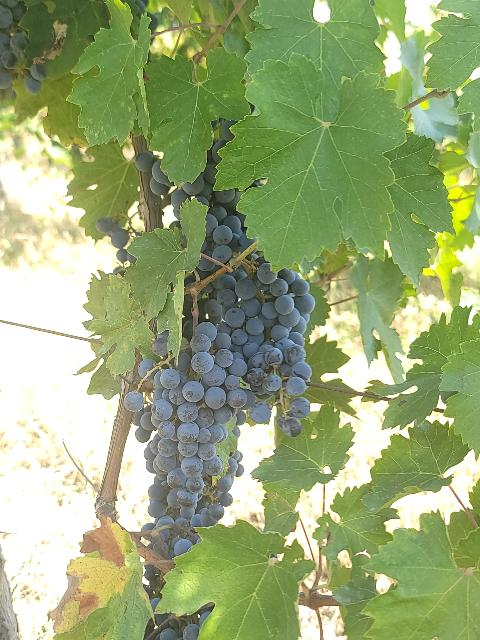grapes: (124, 321, 270, 528), (191, 254, 315, 436)
